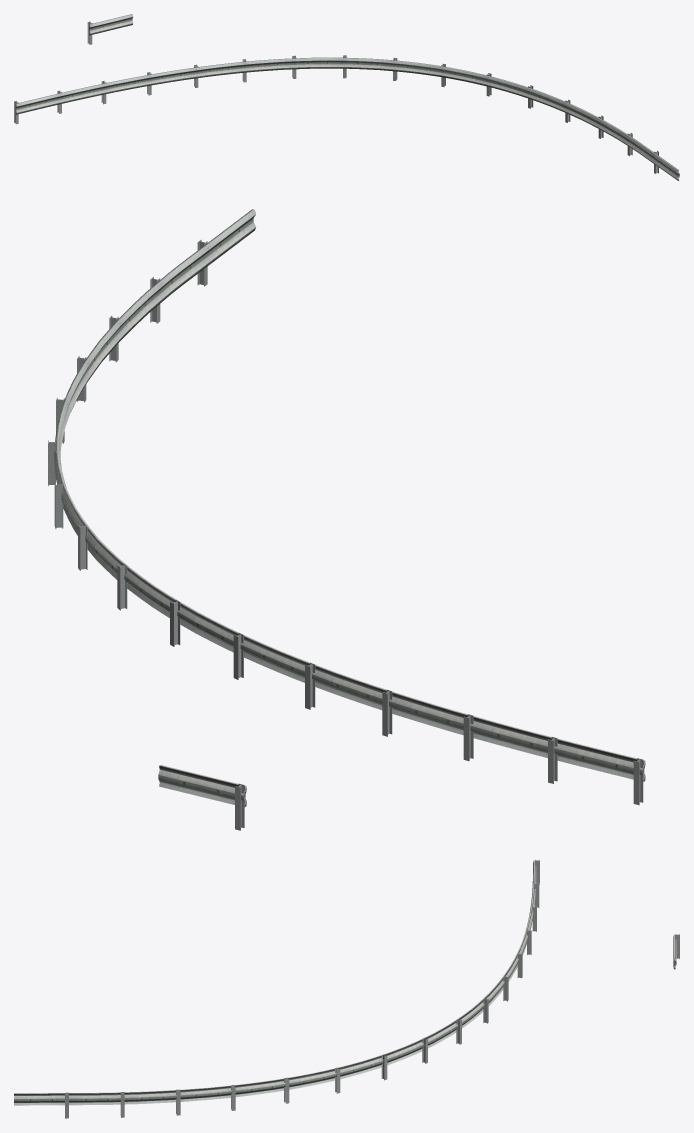
File: guard_rail.glb
3 views of the same model, one above another, from view 1: azimuth 30°, elevation 25°; view 2: azimuth 150°, elevation 25°; view 3: azimuth 270°, elevation 25° (orthographic). The views are drawn at different scales.
Parts seen in each view (by area): view 1: Guardrail_Example, Guardrail; view 2: Guardrail_Example, Guardrail; view 3: Guardrail_Example.
Boxes of the visible parts, <box> form: Guardrail_Example: <box>14,55,679,180</box>; Guardrail: <box>87,14,133,44</box>; Guardrail_Example: <box>48,209,645,805</box>; Guardrail: <box>158,765,246,830</box>; Guardrail_Example: <box>14,859,539,1118</box>.
Size of the model in its own units: 87.32 by 4.16 by 105.
Materials: 2 (2 with a texture image).
